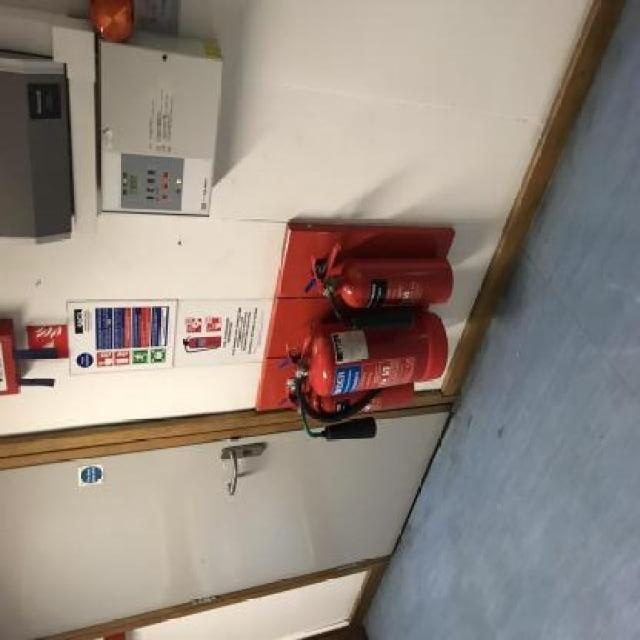fire extinguisher: (286, 313, 448, 422), (311, 241, 452, 330), (286, 373, 417, 441)
